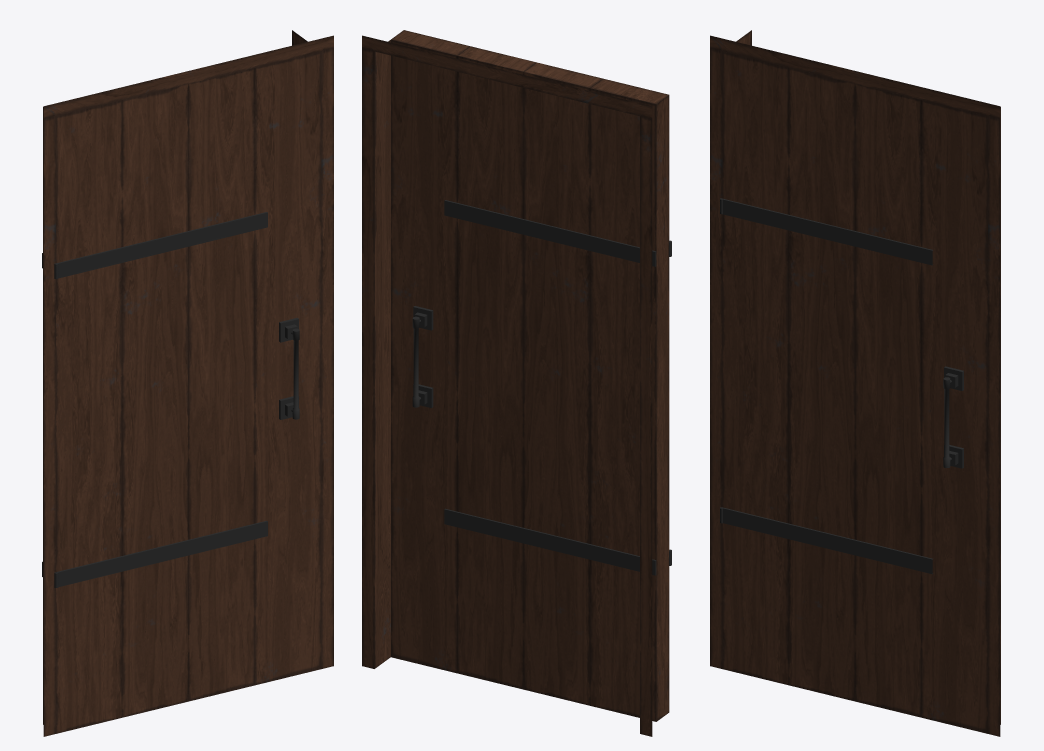
Rendered from Door_A_Frame.fbx.
The picture shows the model from 3 angles, left to right: view 1: azimuth 30°, elevation 25°; view 2: azimuth 150°, elevation 25°; view 3: azimuth 330°, elevation 25°; orthographic projection.
Visible parts, largest first — view 1: Door_A, Door_A_Frame; view 2: Door_A, Door_A_Frame; view 3: Door_A, Door_A_Frame.
Boxes of the visible parts, x1,y1,x2,y2 form: Door_A: [42, 51, 321, 733]; Door_A_Frame: [43, 30, 333, 736]; Door_A: [391, 30, 671, 721]; Door_A_Frame: [362, 35, 652, 736]; Door_A: [720, 51, 1000, 733]; Door_A_Frame: [710, 30, 1000, 736].
Bounding box in the file's own units: 1.1 × 0.2562 × 2.28.
